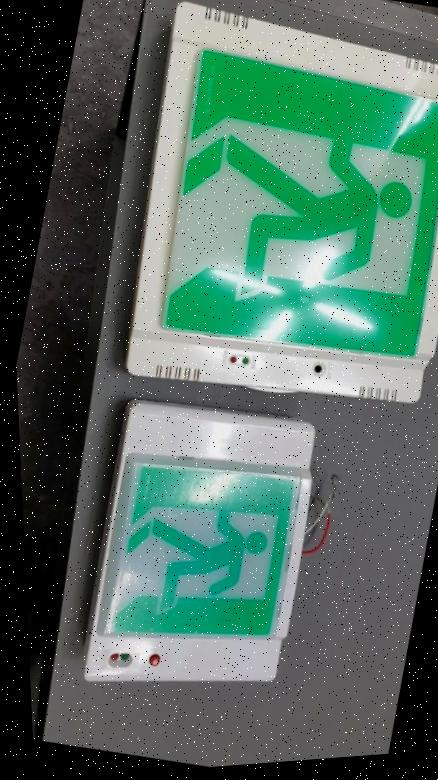emergency_exit: (124, 3, 437, 404), (83, 399, 316, 684)
